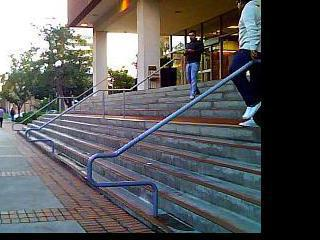Escaleras: (45, 120, 162, 220), (175, 117, 260, 232), (145, 74, 257, 119), (13, 109, 68, 143), (82, 86, 135, 114)
